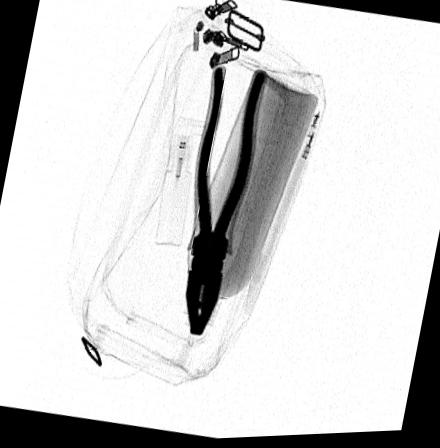Pliers: (182, 67, 263, 337)
